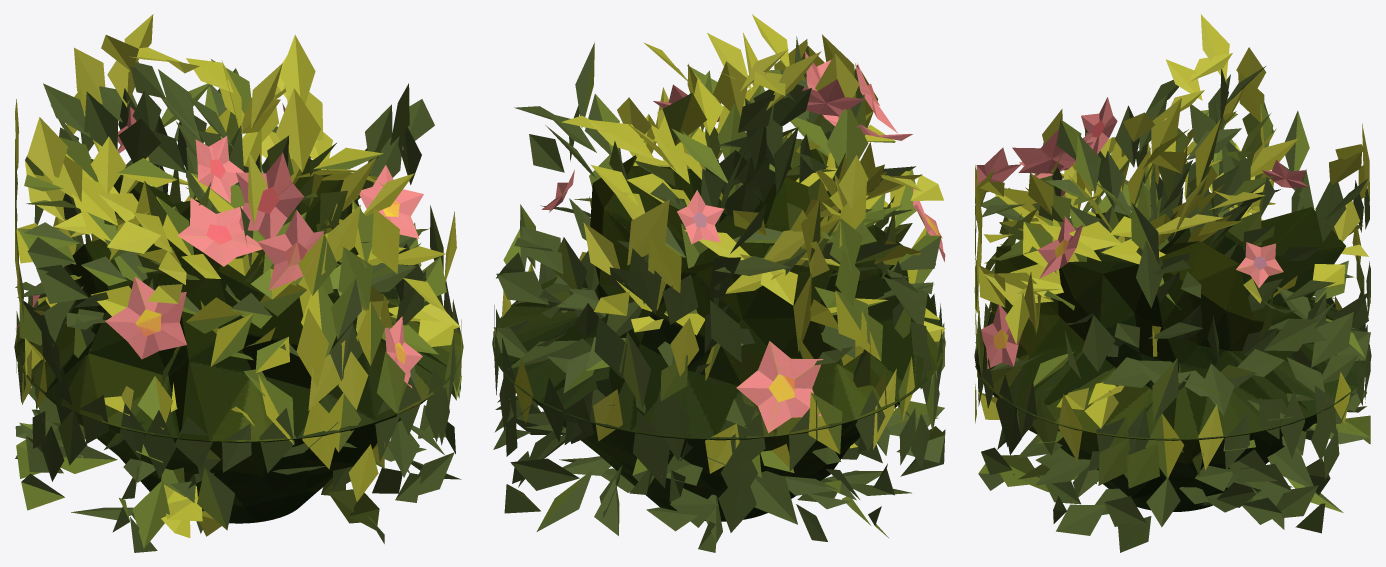
The model's file is shrub_leafy.glb.
3 views of the same model, side by side, from view 1: azimuth 30°, elevation 25°; view 2: azimuth 150°, elevation 25°; view 3: azimuth 270°, elevation 25° (orthographic). The views are drawn at different scales.
Visible parts, largest first — view 1: body; view 2: body; view 3: body.
Boxes of the visible parts, x1,y1,x2,y2 form: body: (14, 14, 463, 552); body: (492, 14, 945, 552); body: (974, 14, 1371, 552).
Size of the model in its own units: 1.1 by 1.29 by 1.1.
Materials: 1 (1 with a texture image).
